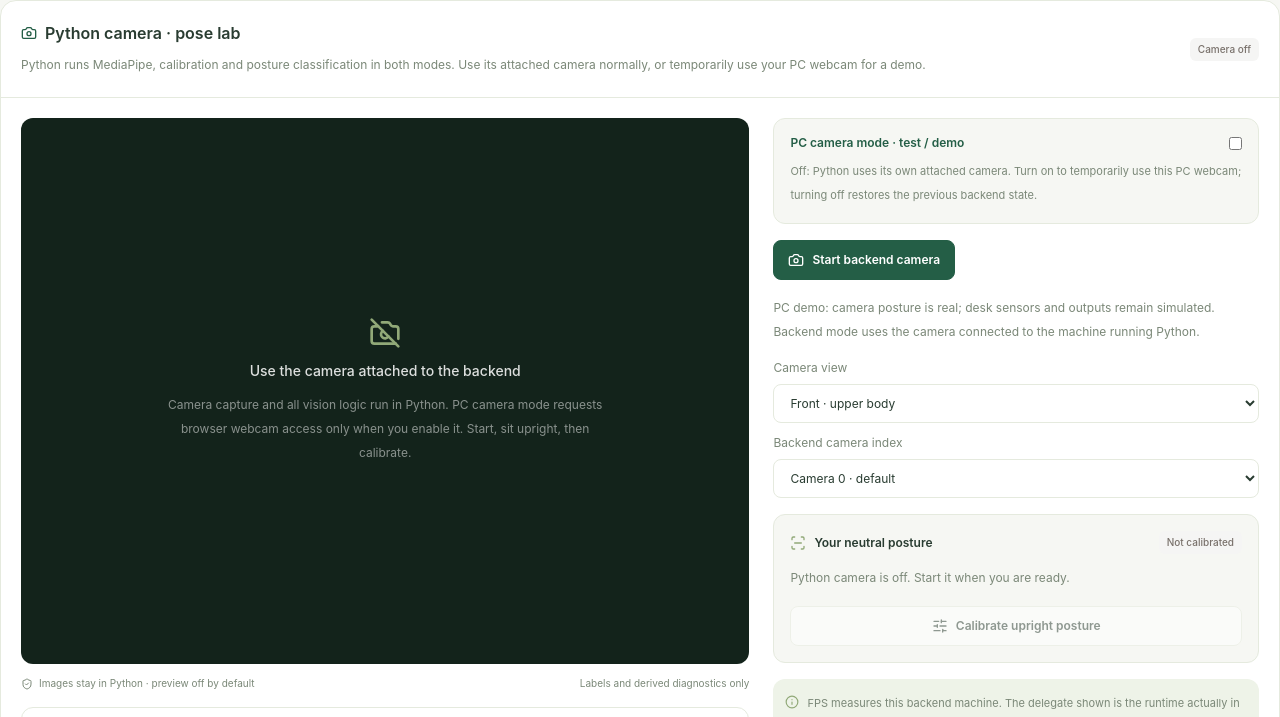
Test: Python camera controls and monitoring › stops a UI-owned Python camera on unmount and retains explicit source selection
Click the button "Start backend camera".
click(864, 260)  # box [773,240,955,280]
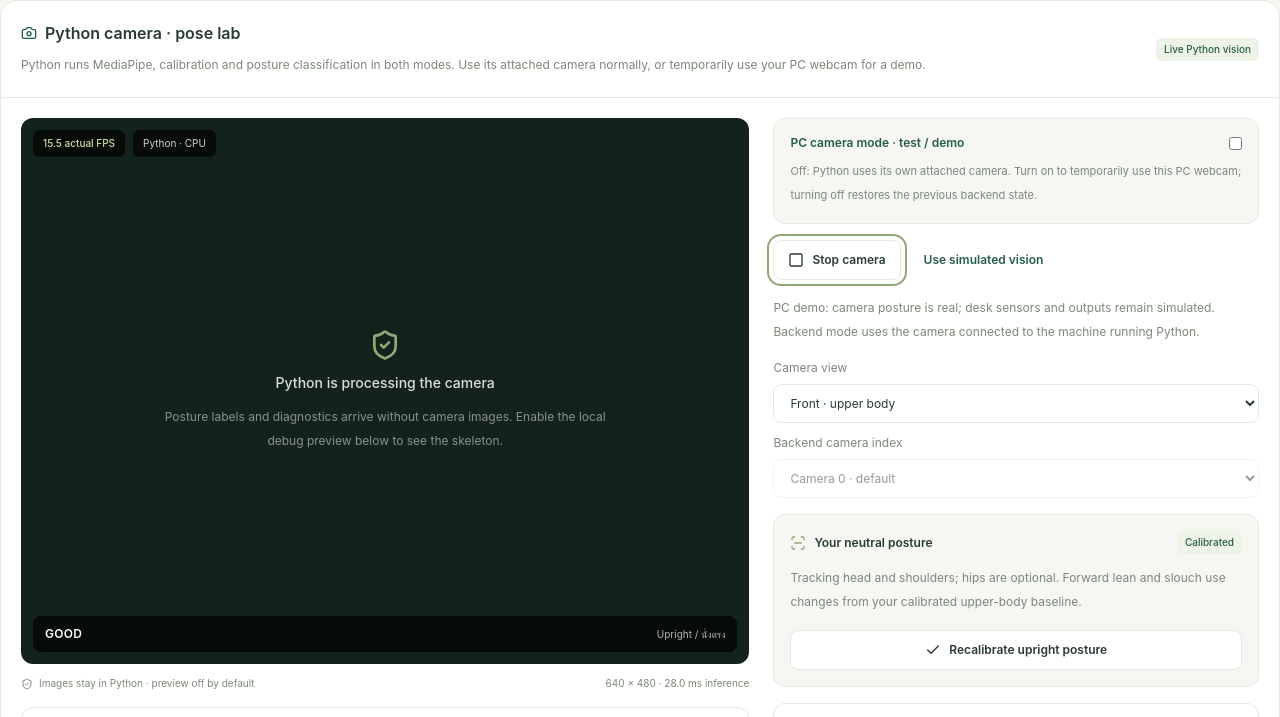
Expected: the text "Live Python vision" is shown, [1156,38,1259,60]
